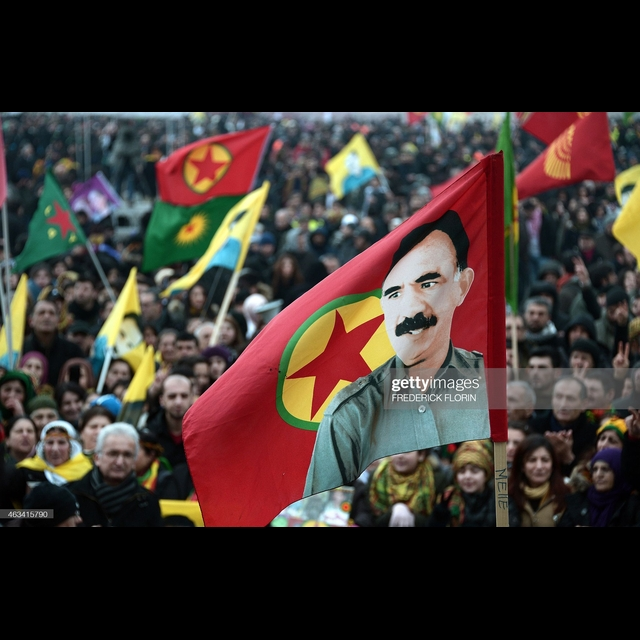APO: (387, 230, 462, 368)
KCK: (171, 214, 213, 244)
PKK: (179, 146, 238, 191)
YPJ: (41, 195, 79, 246)
